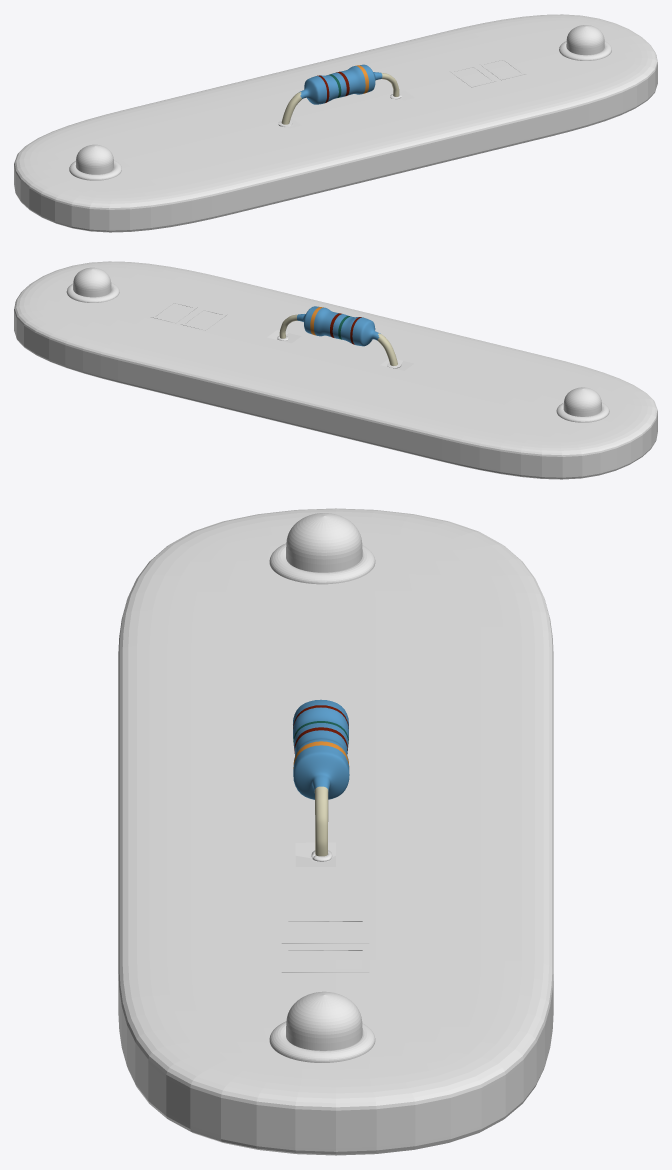
The model's file is Snap Circuit Resistor.fbx.
3 views of the same model, one above another, from view 1: azimuth 30°, elevation 25°; view 2: azimuth 150°, elevation 25°; view 3: azimuth 270°, elevation 25° (orthographic). The views are drawn at different scales.
Visible parts, largest first — view 1: Plane.002, Cube, Sphere.072, Sphere.073, Text.002, Circle.007, Circle.006; view 2: Plane.002, Cube, Sphere.072, Sphere.073, Text.002, Circle.007, Circle.006; view 3: Plane.002, Cube, Sphere.073, Sphere.072, Text.002, Circle.006, Circle.007.
Part boxes in pixels (bbox=[...]): Plane.002: bbox=[14, 14, 657, 232]; Cube: bbox=[281, 64, 399, 124]; Sphere.072: bbox=[566, 25, 604, 54]; Sphere.073: bbox=[75, 144, 113, 174]; Text.002: bbox=[450, 58, 525, 87]; Circle.007: bbox=[69, 160, 121, 180]; Circle.006: bbox=[559, 41, 611, 60]; Plane.002: bbox=[14, 261, 657, 479]; Cube: bbox=[279, 306, 397, 365]; Sphere.072: bbox=[73, 267, 111, 297]; Sphere.073: bbox=[563, 387, 601, 416]; Text.002: bbox=[151, 301, 227, 330]; Circle.007: bbox=[556, 402, 609, 422]; Circle.006: bbox=[66, 282, 119, 302]; Plane.002: bbox=[118, 508, 553, 1155]; Cube: bbox=[293, 699, 349, 856]; Sphere.073: bbox=[286, 513, 362, 572]; Sphere.072: bbox=[286, 991, 362, 1050]; Text.002: bbox=[281, 918, 369, 972]; Circle.006: bbox=[269, 1021, 375, 1062]; Circle.007: bbox=[269, 543, 375, 584].
Size of the model in its own units: 657 by 72.1 by 202.
